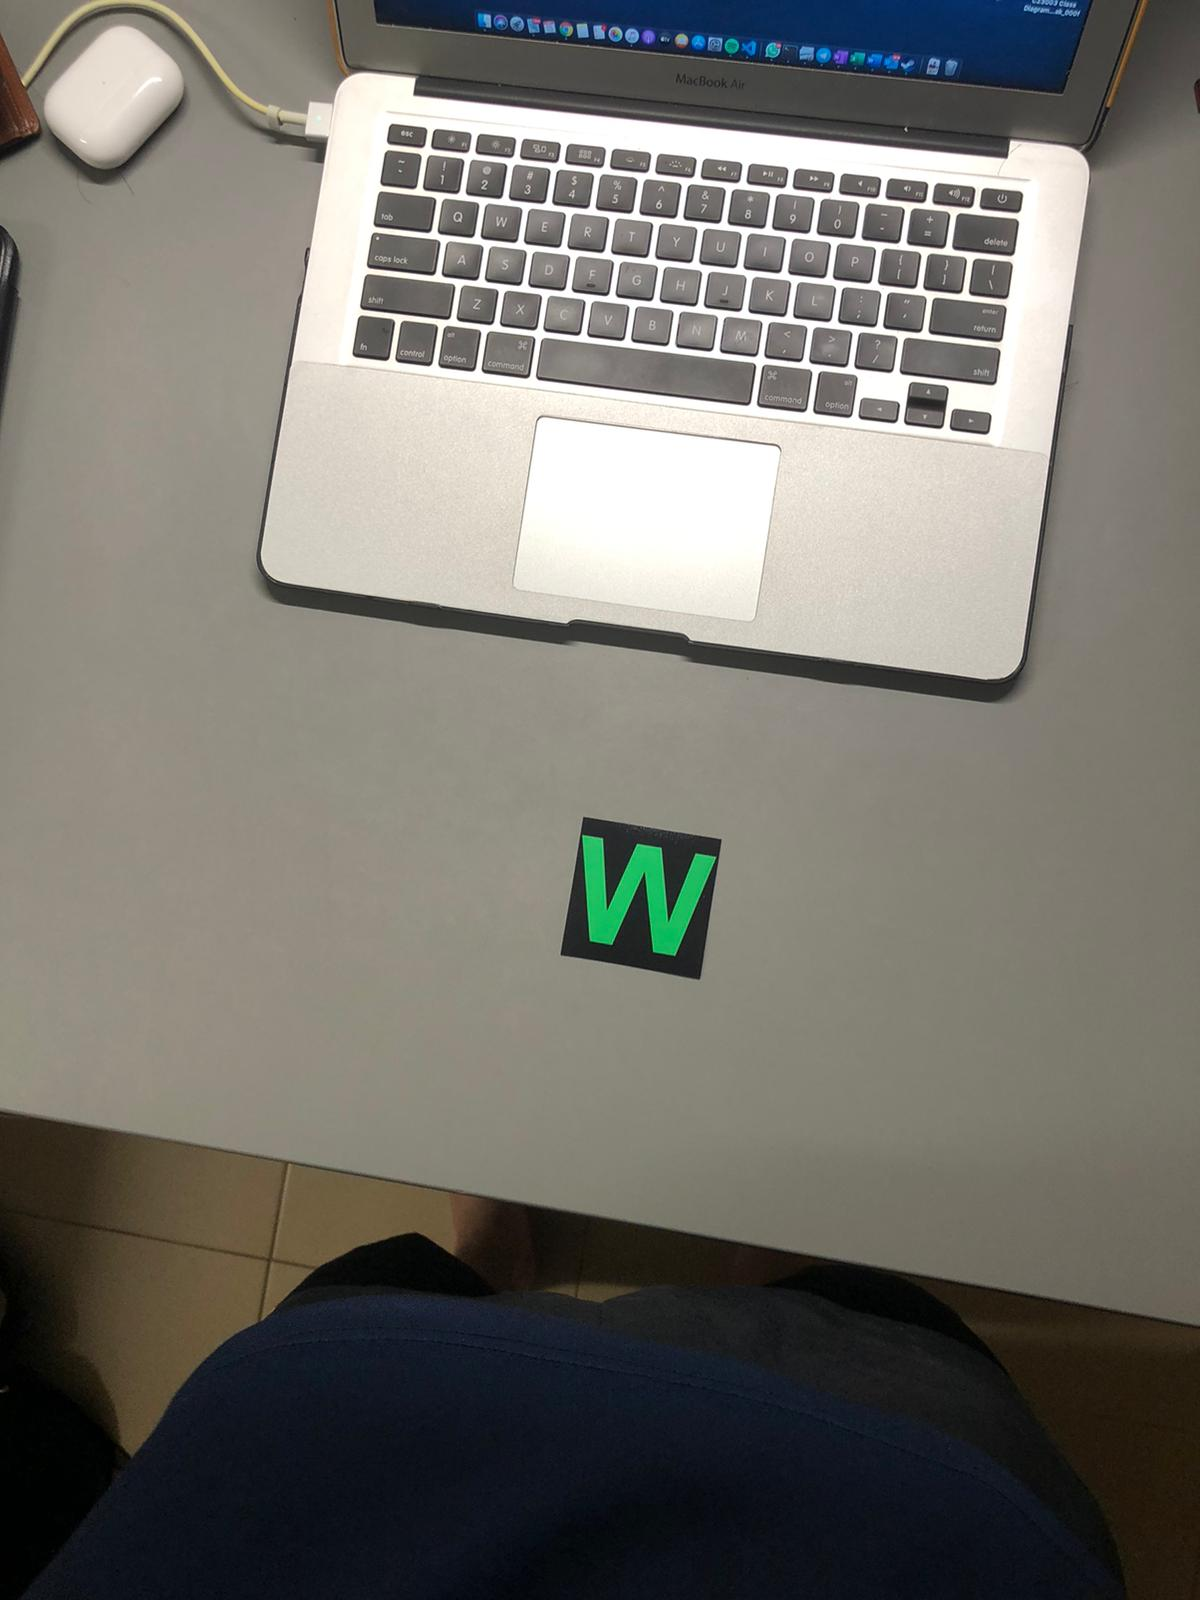W: (574, 815, 722, 976)
